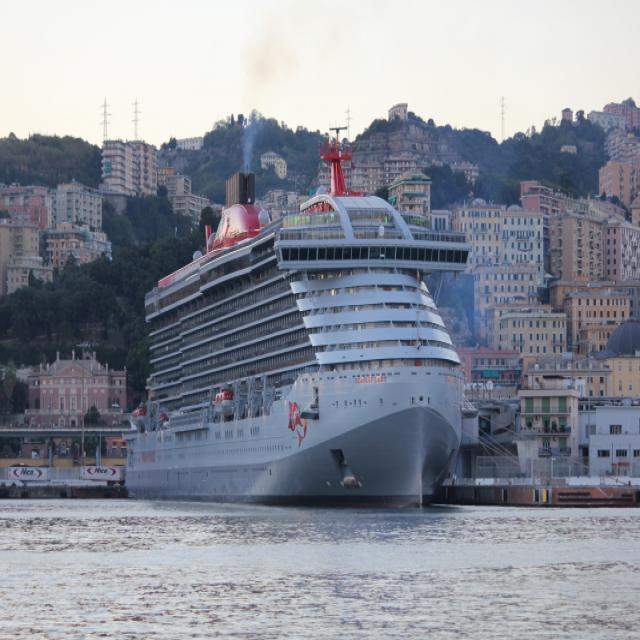cruises: (119, 124, 474, 522)
